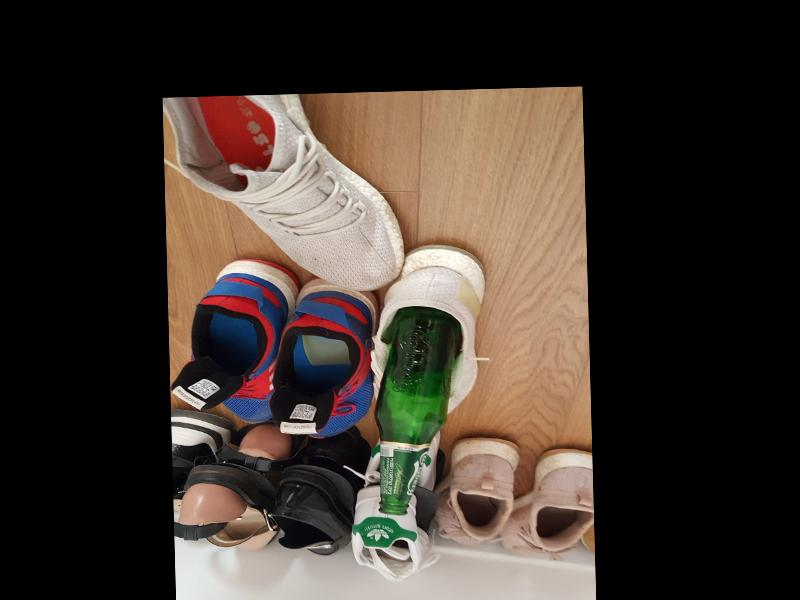Beer: (370, 306, 464, 513)
